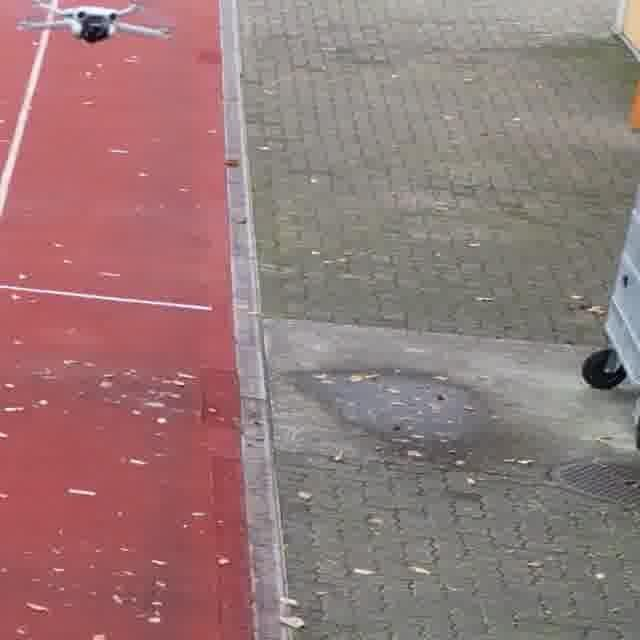Drohne: (18, 0, 170, 43)
